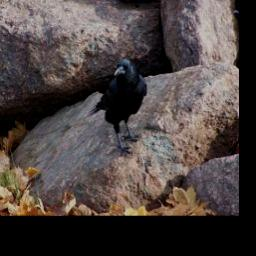Crow: (83, 54, 147, 158)
